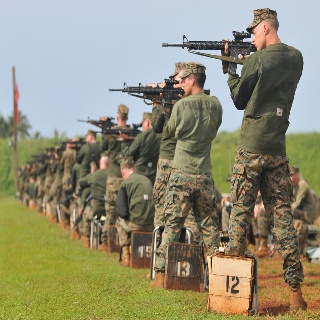rifle: (162, 29, 256, 76), (108, 76, 211, 111)
